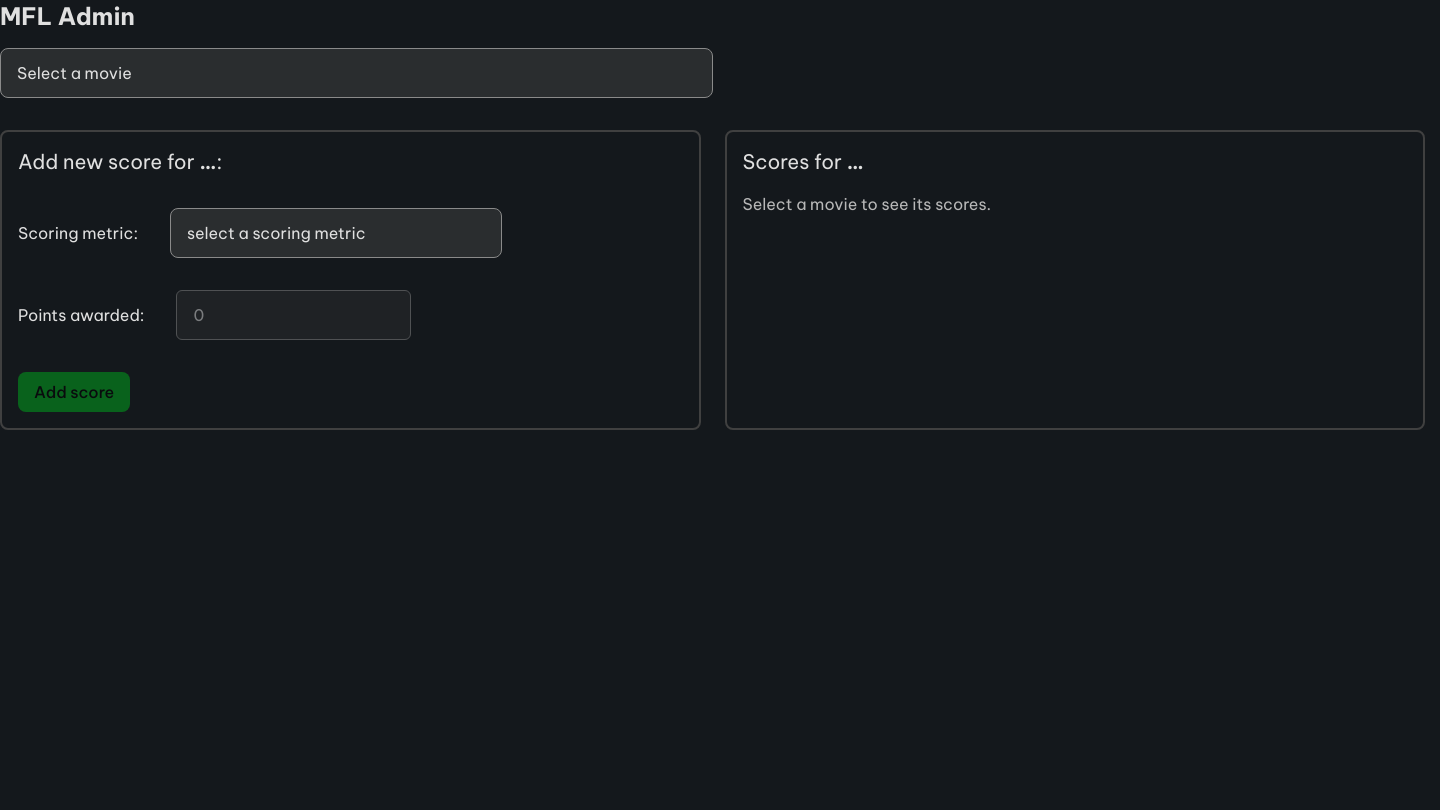
Test: MFL admin surfaces write failures › shows the server's message for a 409 duplicate award
Select "Anora" in the dropdown named "select a movie": point(356, 73) [0,48,712,98]
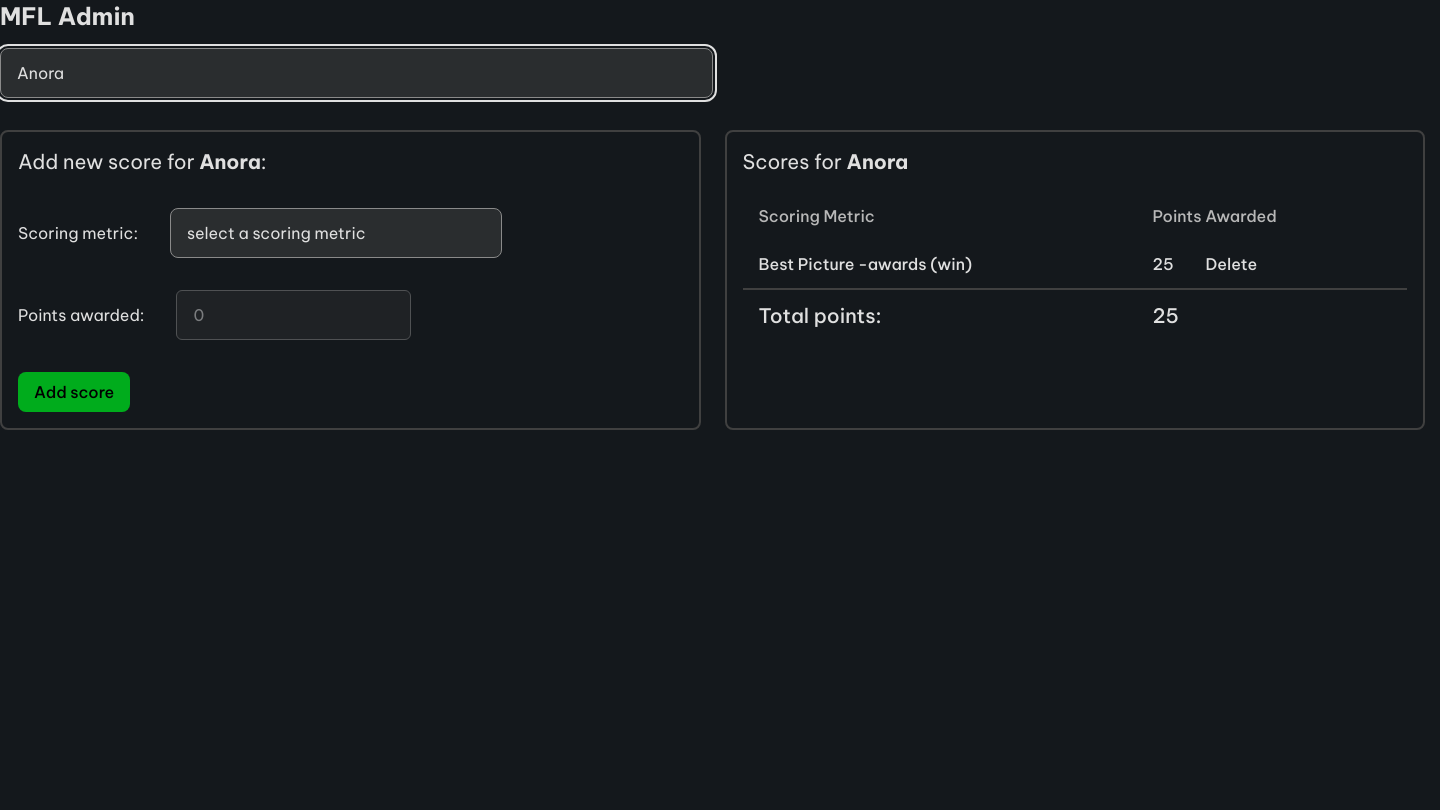
Expected: the button "Delete" is shown
Click the button "Delete": point(1231, 264) [1174,252,1289,276]
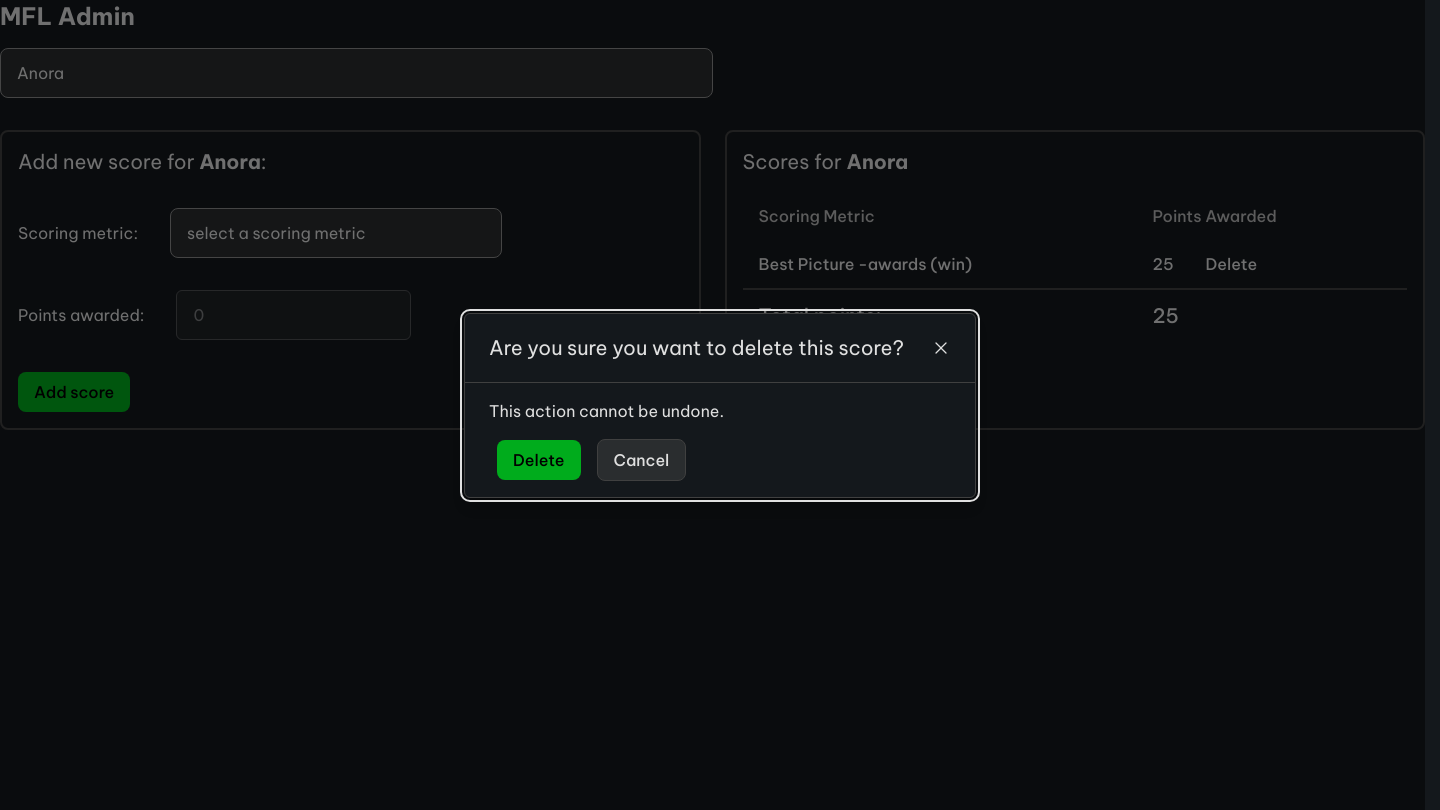
Click the button "Delete": point(539, 460) [497,440,580,480]
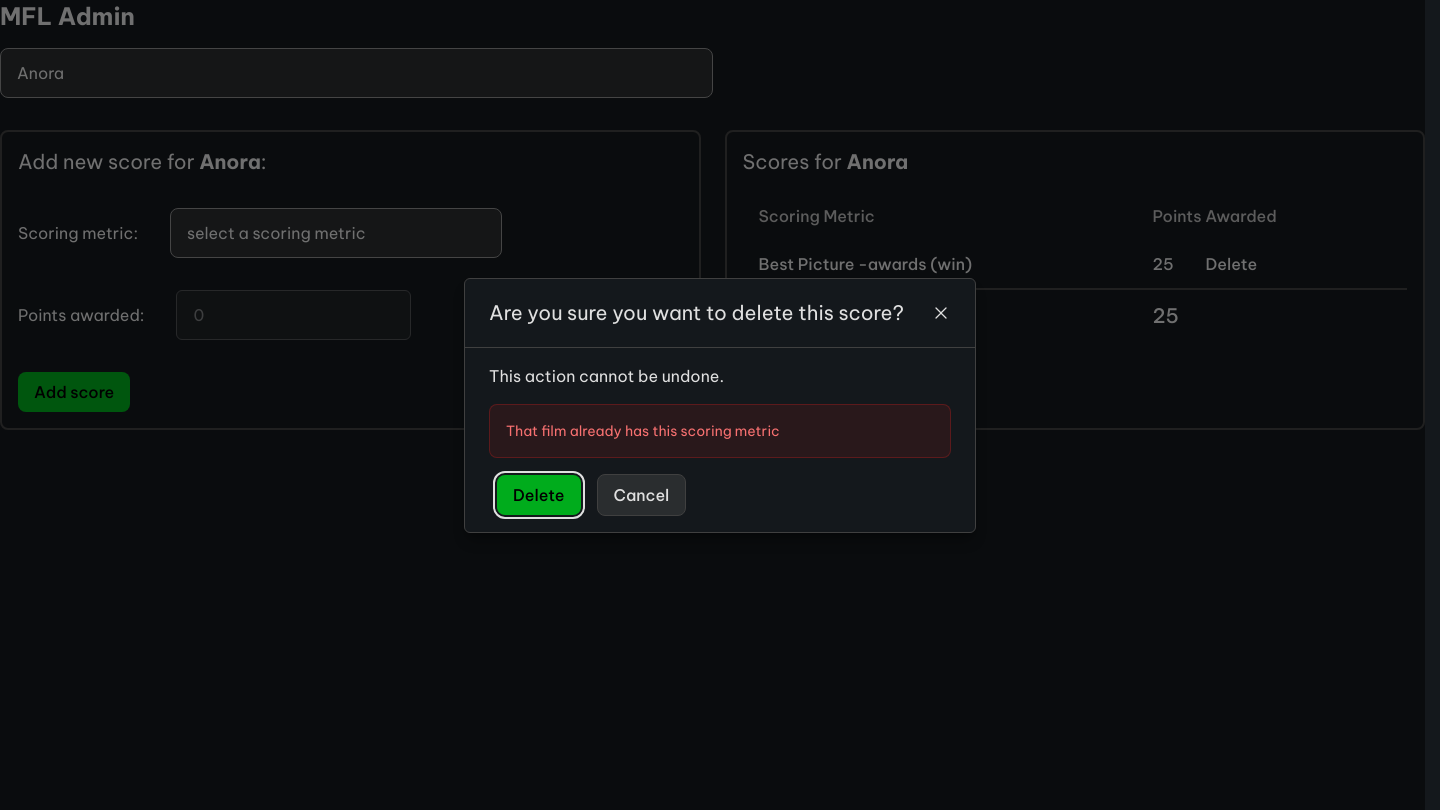
Expected: the text "That film already has this scoring metric" is shown, [489,404,951,458]
